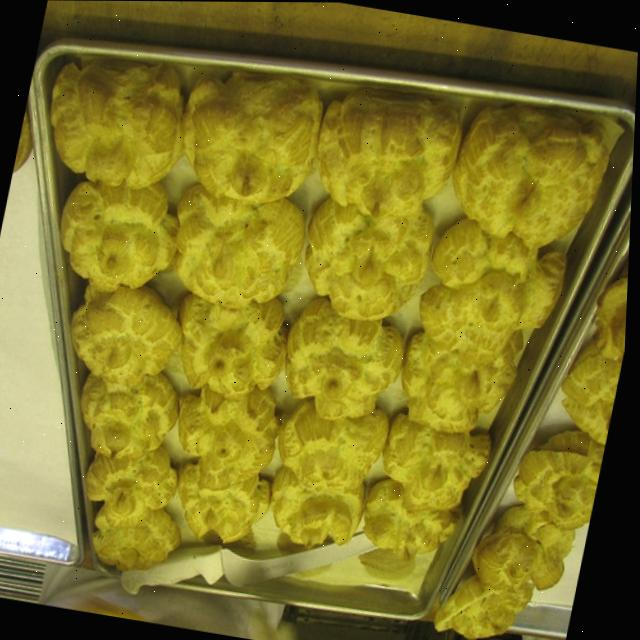炸货点心: (18, 26, 623, 640)
蛋糕甜品: (18, 26, 623, 640)
